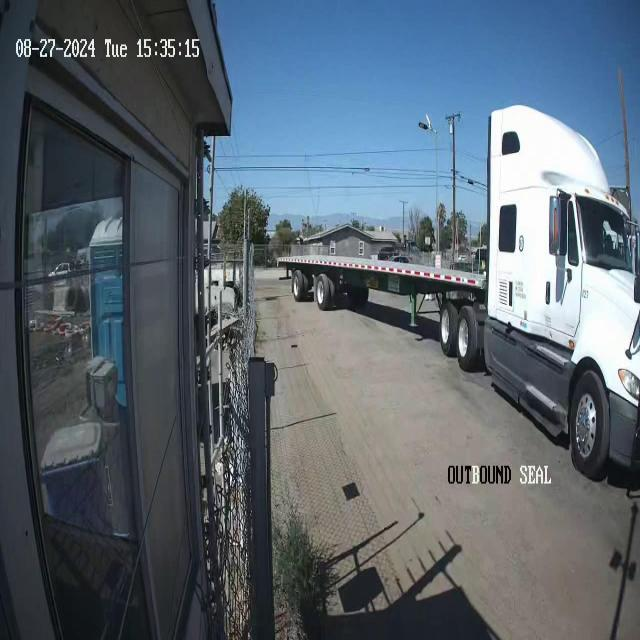TRUCK_IN: (276, 99, 640, 484)
